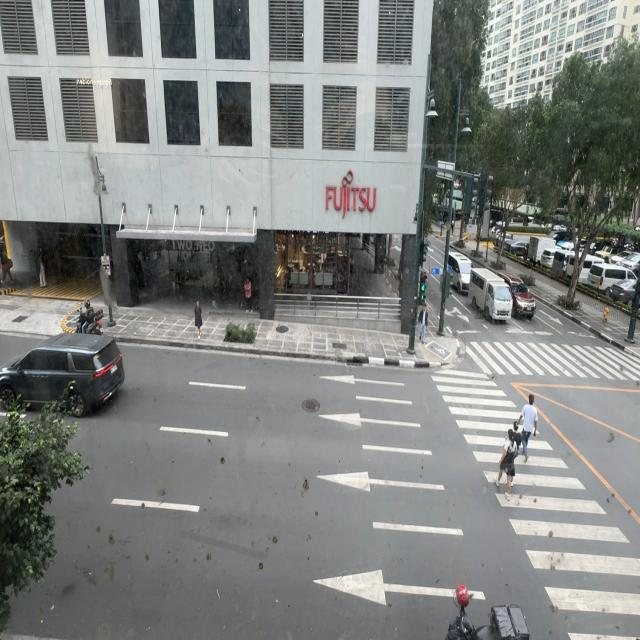crossing: (495, 428, 517, 502), (518, 395, 538, 461)
pedestrain: (194, 300, 203, 340), (244, 277, 253, 314)
waiting: (418, 303, 428, 345)
